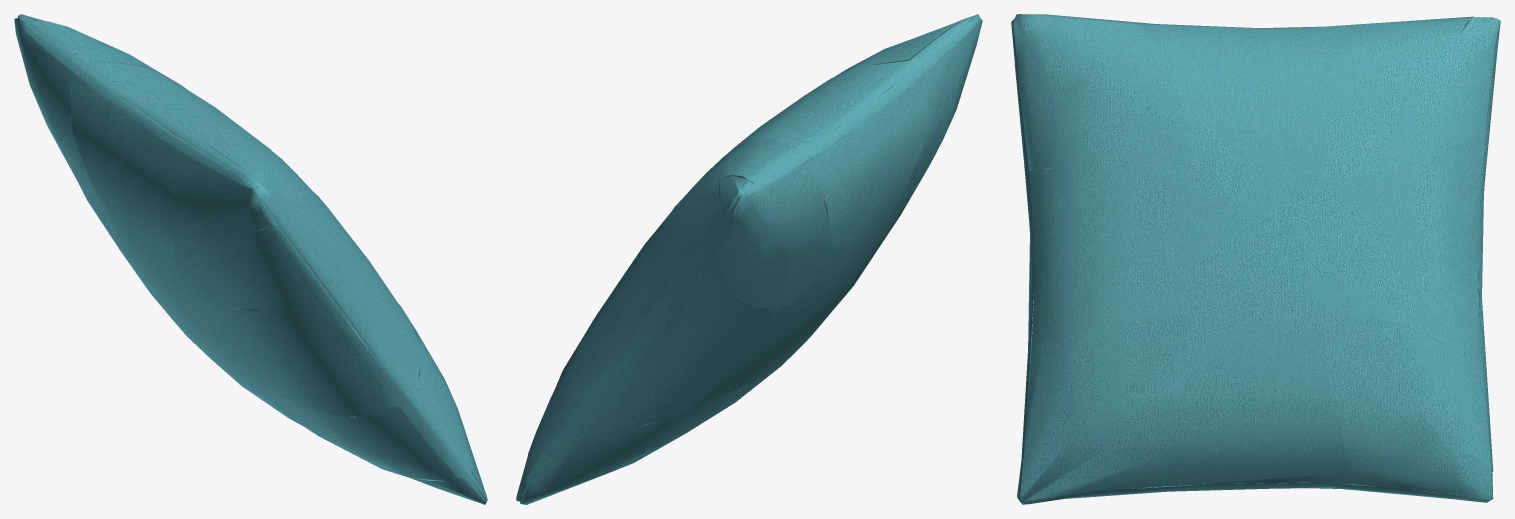
File: pillow.glb
3 views of the same model, side by side, from view 1: azimuth 30°, elevation 25°; view 2: azimuth 150°, elevation 25°; view 3: azimuth 270°, elevation 25° (orthographic).
Parts seen in each view (by area): view 1: Pillow; view 2: Pillow; view 3: Pillow.
Boxes of the visible parts, x1=… form: Pillow: x1=14, y1=14, x2=487, y2=504; Pillow: x1=516, y1=14, x2=982, y2=504; Pillow: x1=1011, y1=14, x2=1500, y2=504.
Bounding box in the file's own units: 0.2601 × 0.3689 × 0.4318.
1 material, 1 textured.
